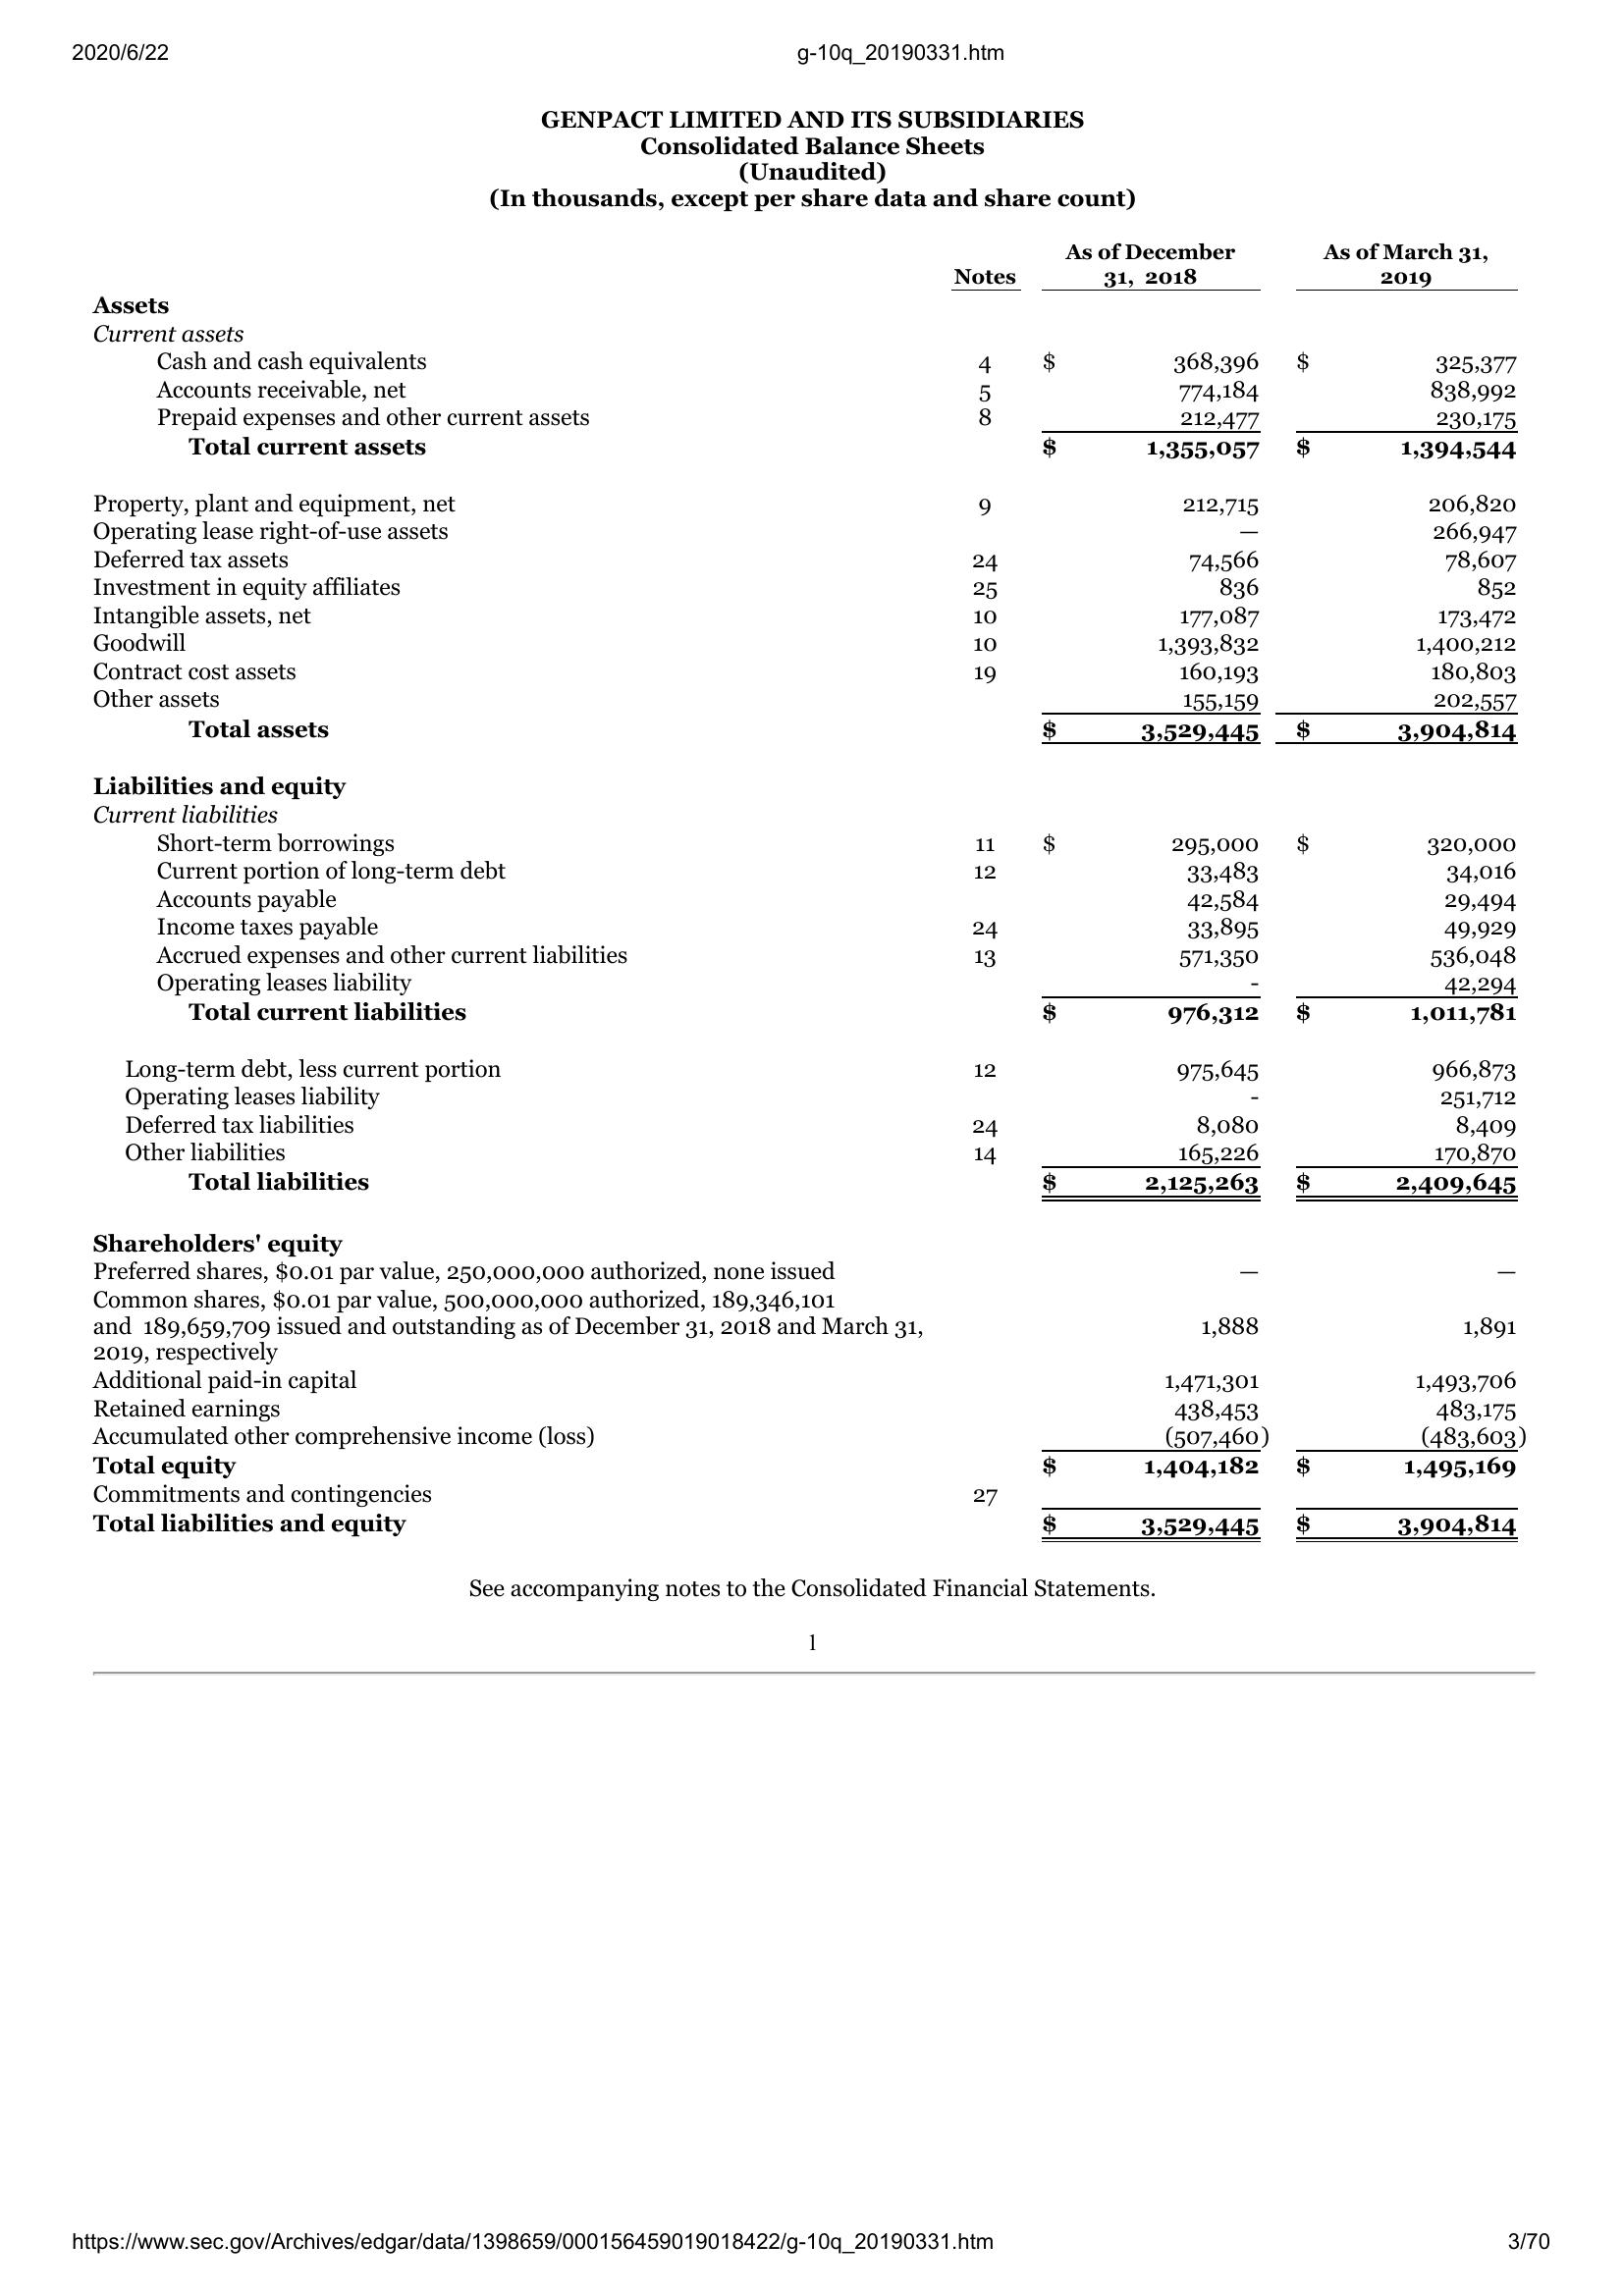table: (77, 235, 1528, 751), (88, 760, 1526, 1204), (88, 1220, 1526, 1550)
